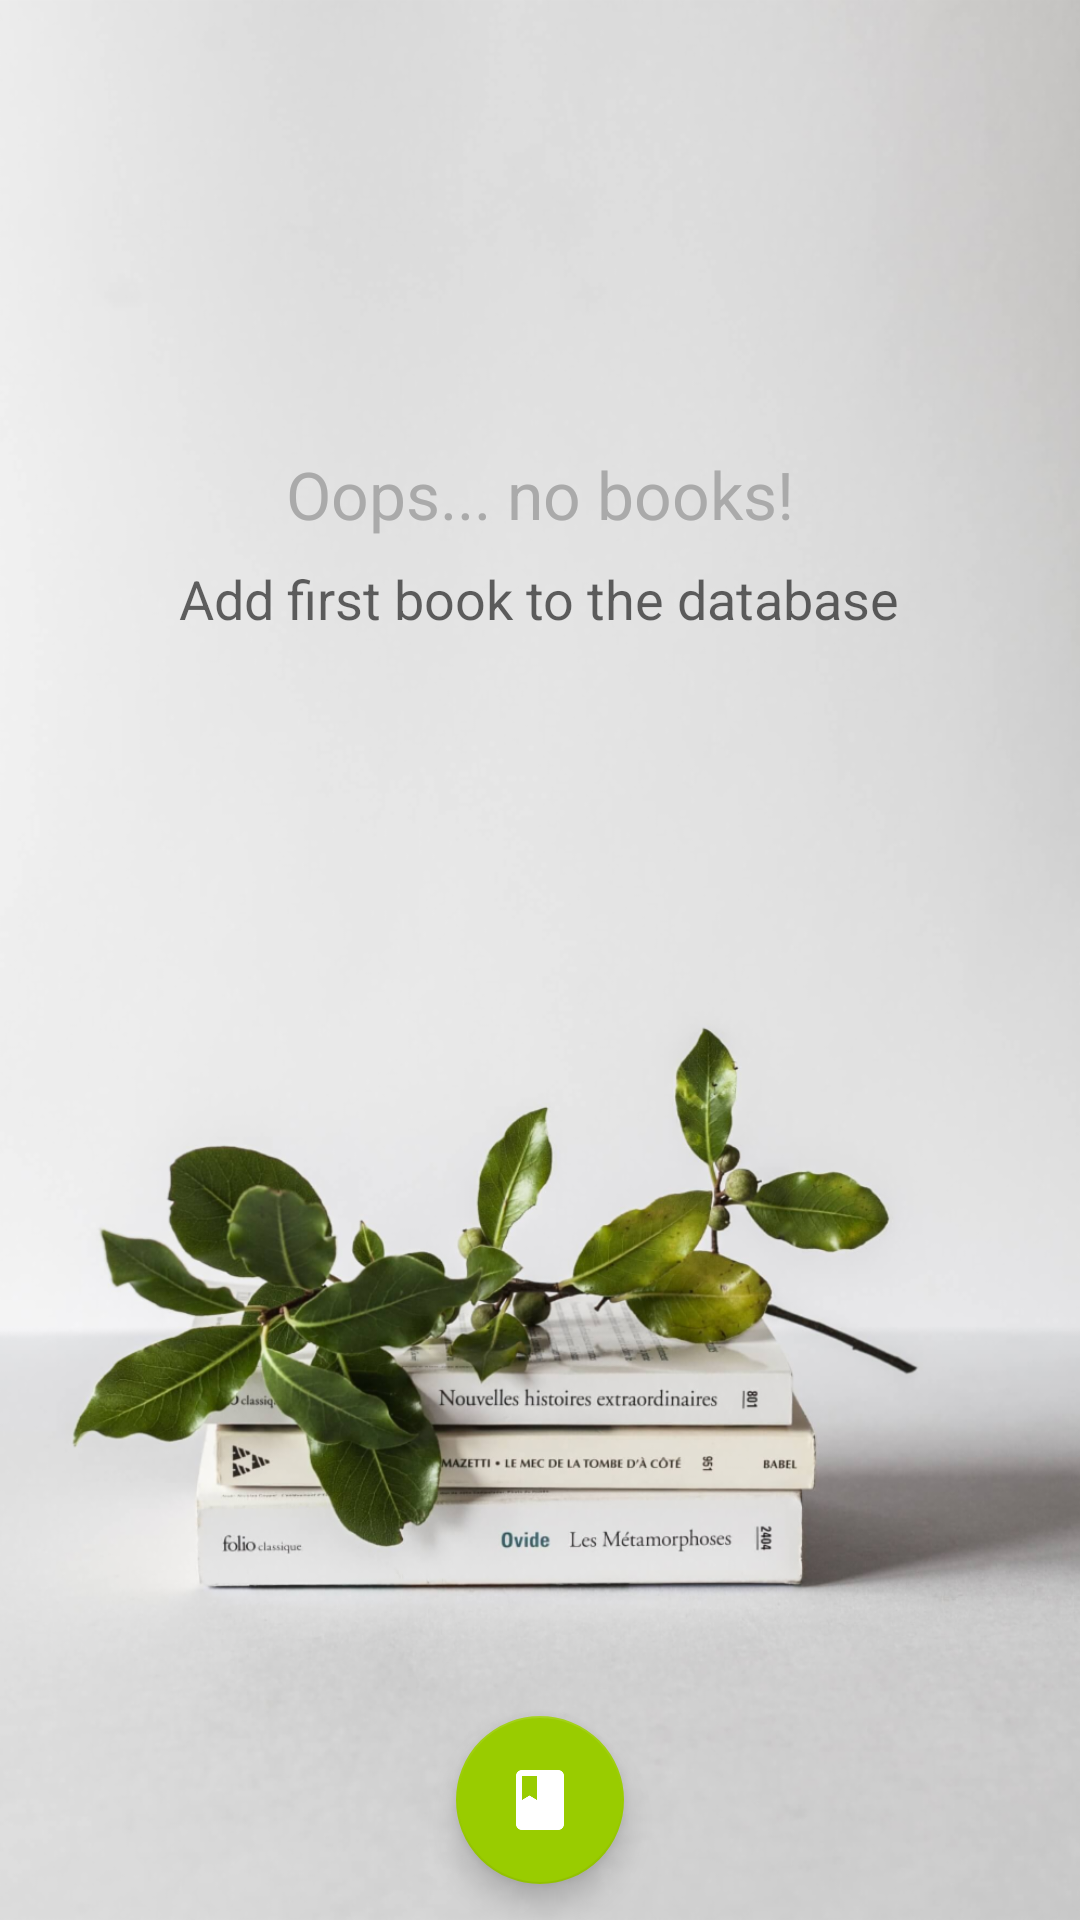

Where icons sit on this 1080w x 1920h app screen, as [x1=x1, y1=y1, x2=x2, y2=y2]:
book: [x1=456, y1=1716, x2=624, y2=1884]
